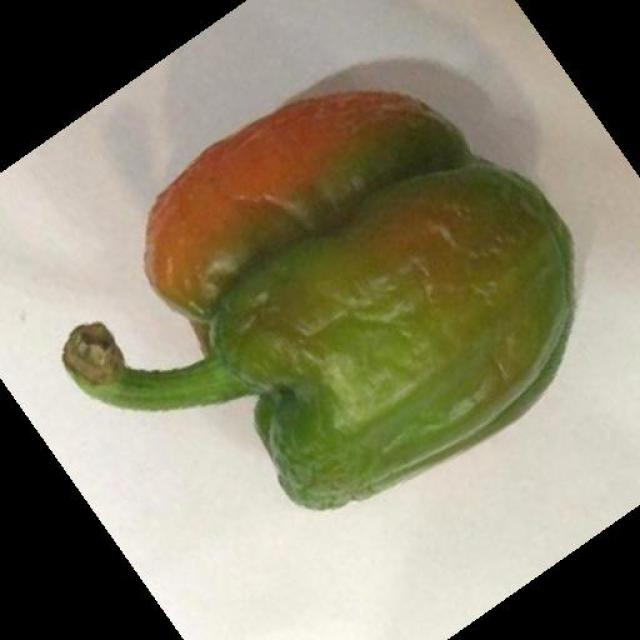Stale_Capsicum: (81, 84, 580, 478)
